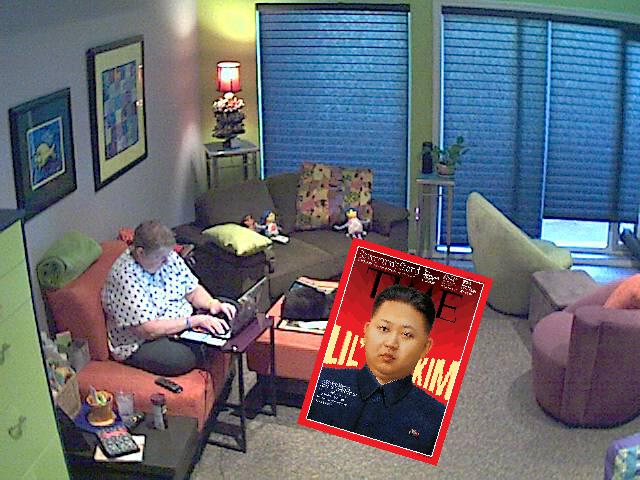times: (293, 235, 490, 470)
